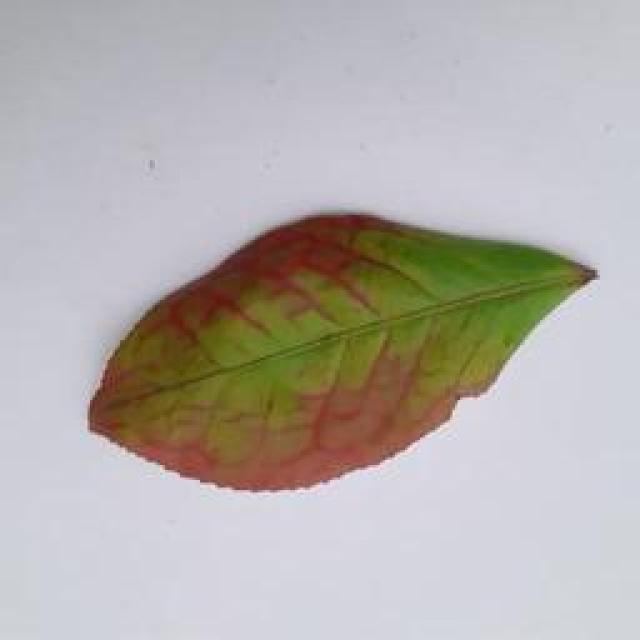Red Leaf Spot: (88, 202, 599, 505)
